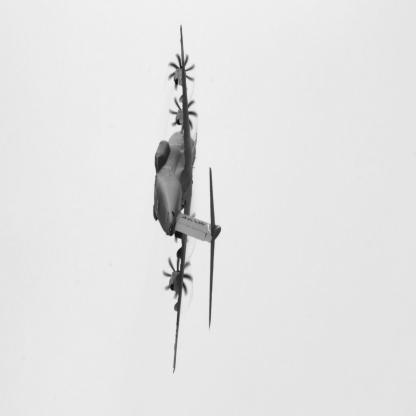A400M: (154, 25, 222, 375)
